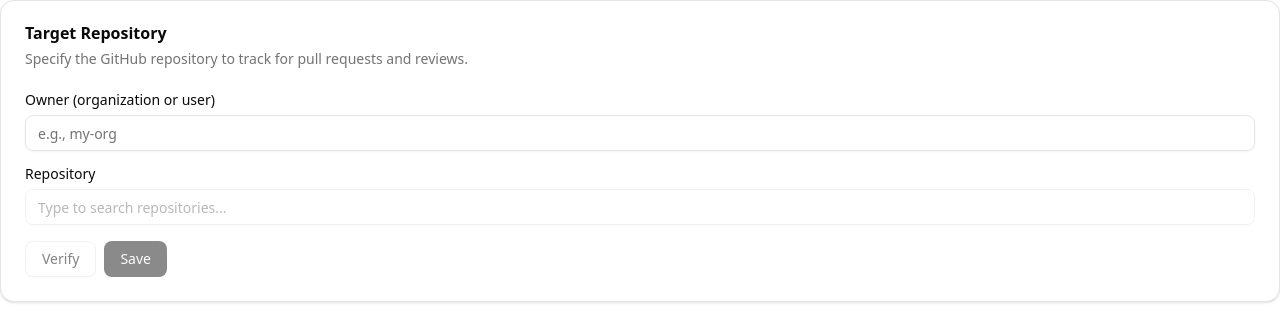
GitHubRepoForm › shows owner suggestions on focus when PAT is configured
// Focus the owner input to open the dropdown
Focus the field labelled "Owner (organization or user)": (640, 133) 25,115 -> 1255,151
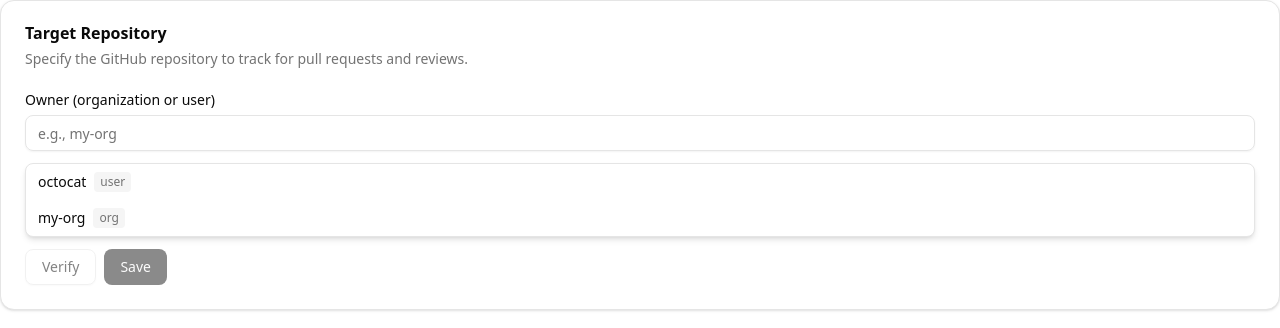
expect the list named "owner suggestions" is shown: met, box 25,163 -> 1255,237
expect the text "octocat" is shown: met, box 38,172 -> 86,192
expect the text "my-org" is shown: met, box 38,208 -> 86,228
